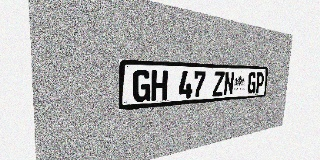4: (178, 71, 193, 99)
7: (192, 71, 206, 98)
G: (133, 70, 151, 103), (247, 72, 257, 94)
H: (151, 70, 168, 101)
N: (223, 72, 235, 96)
P: (255, 72, 264, 93)
Z: (212, 71, 225, 96)
